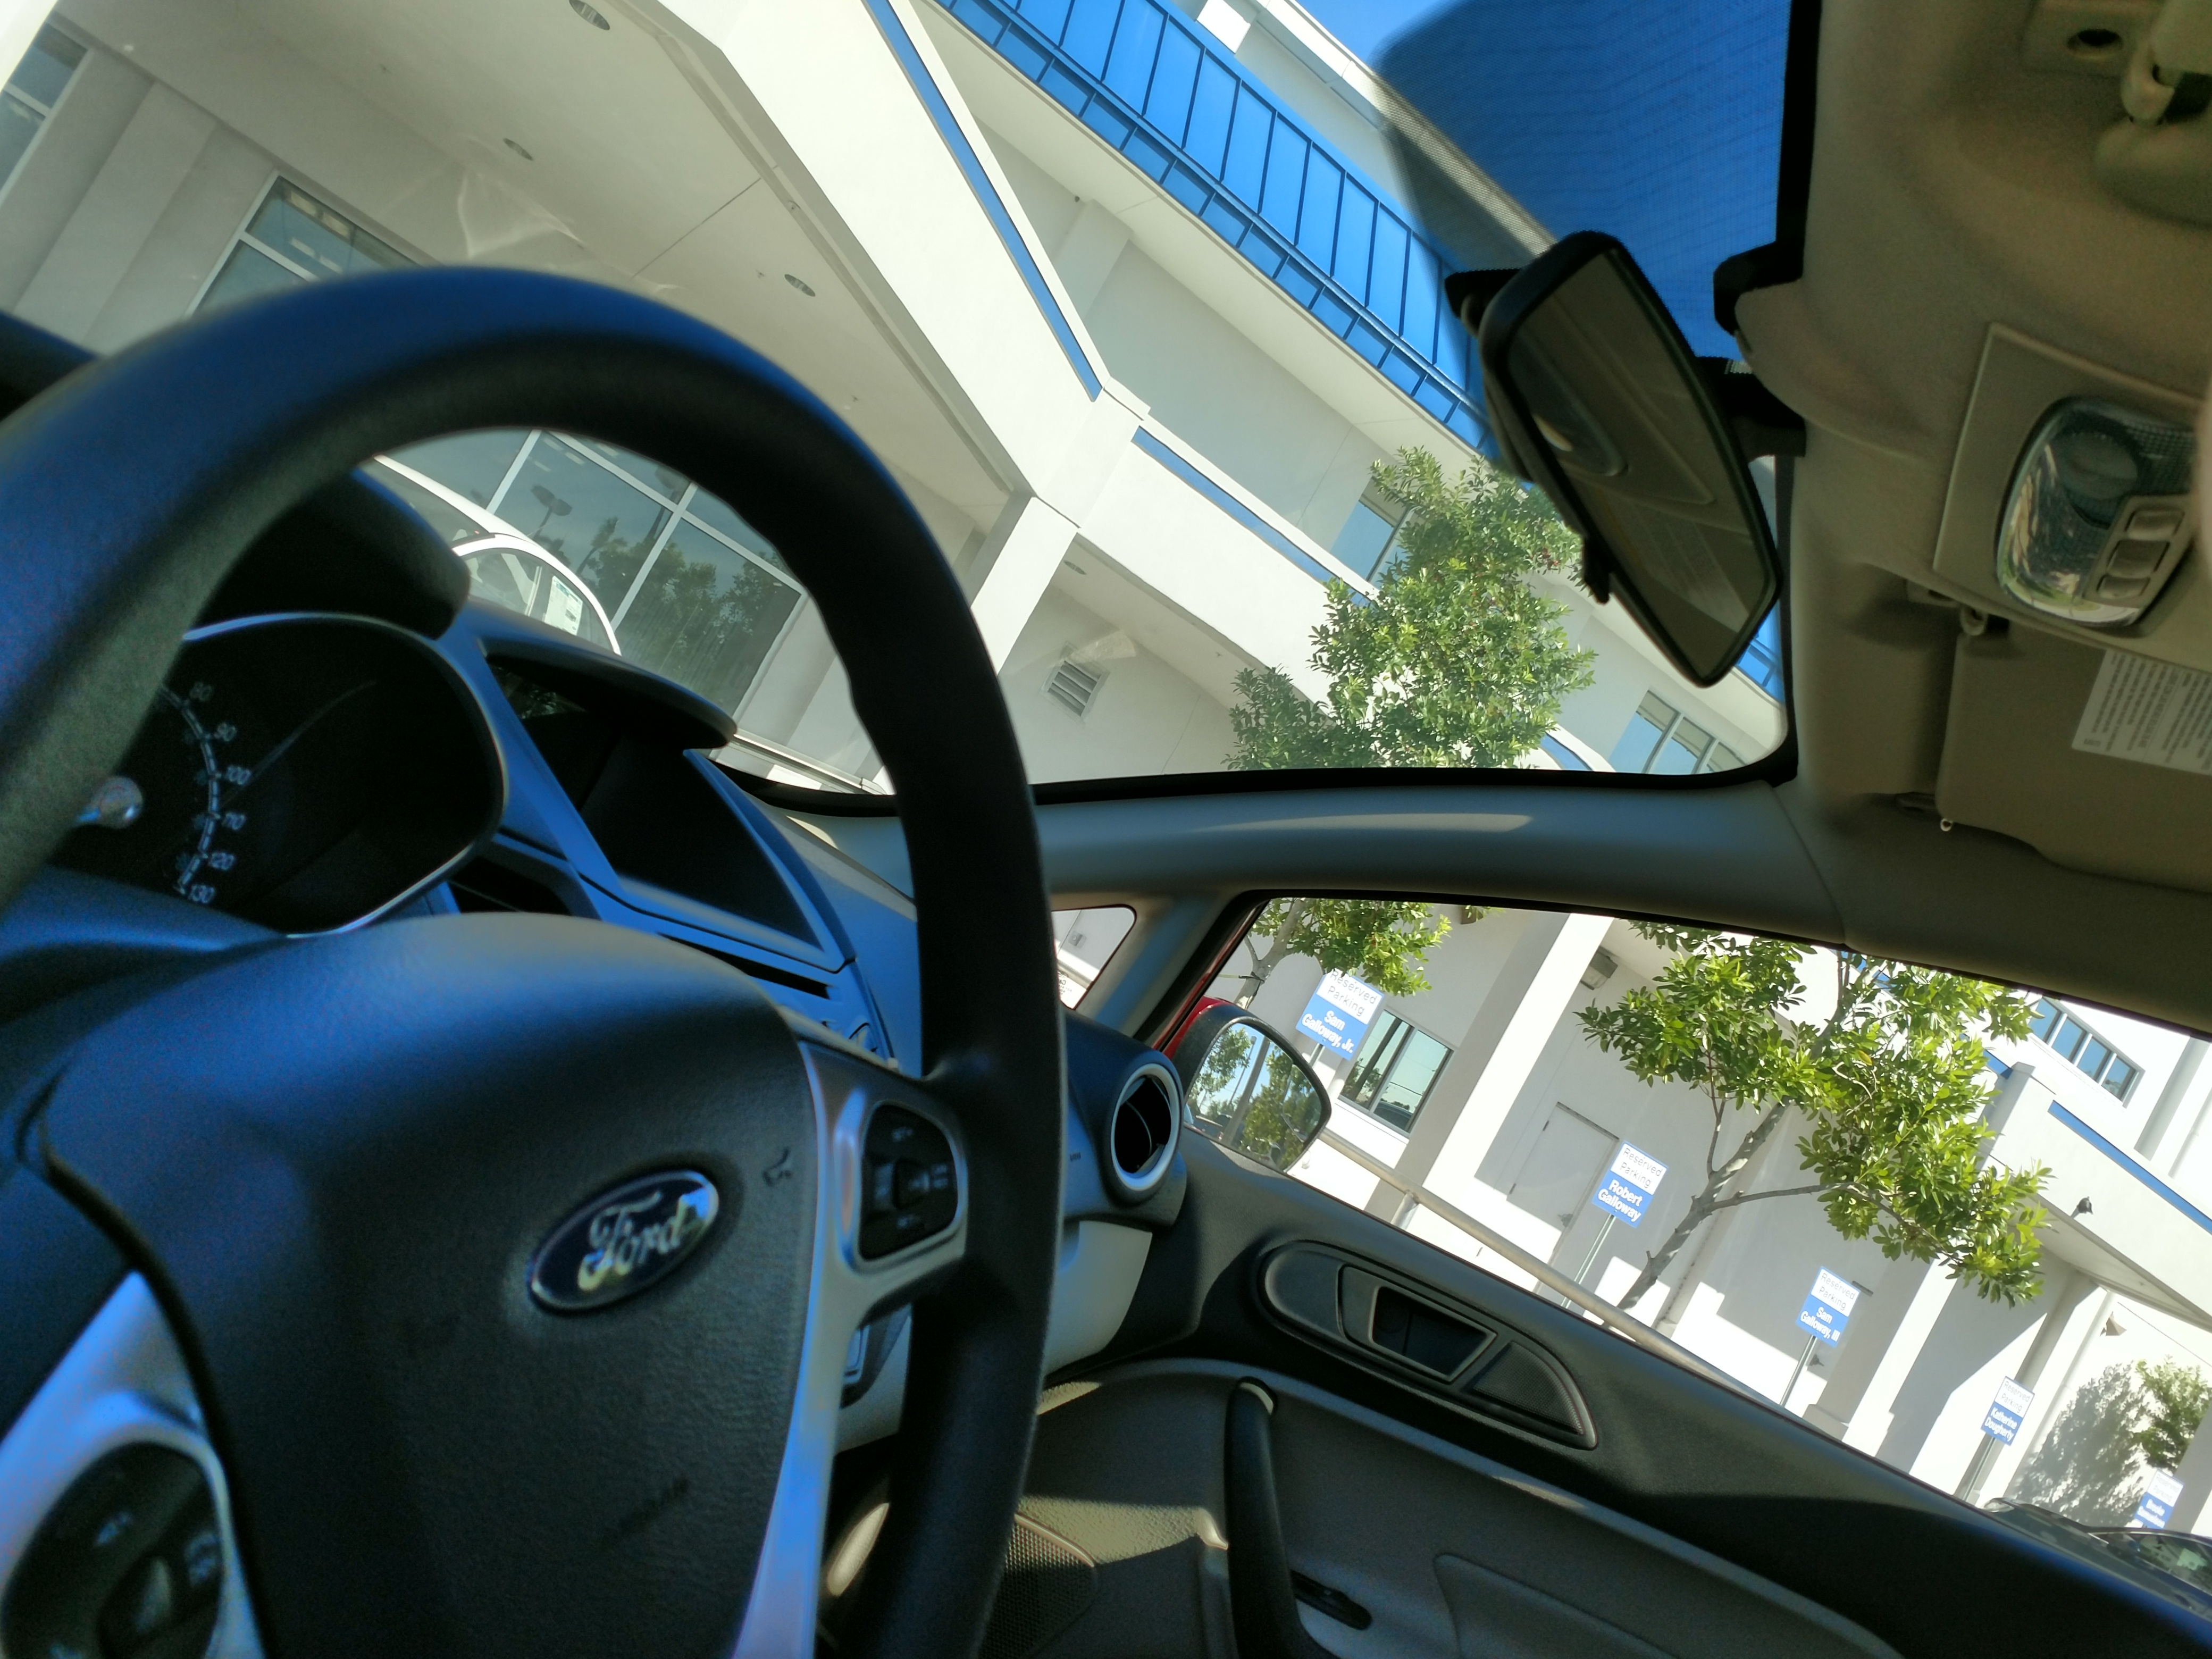Ford: (521, 1159, 737, 1328)
